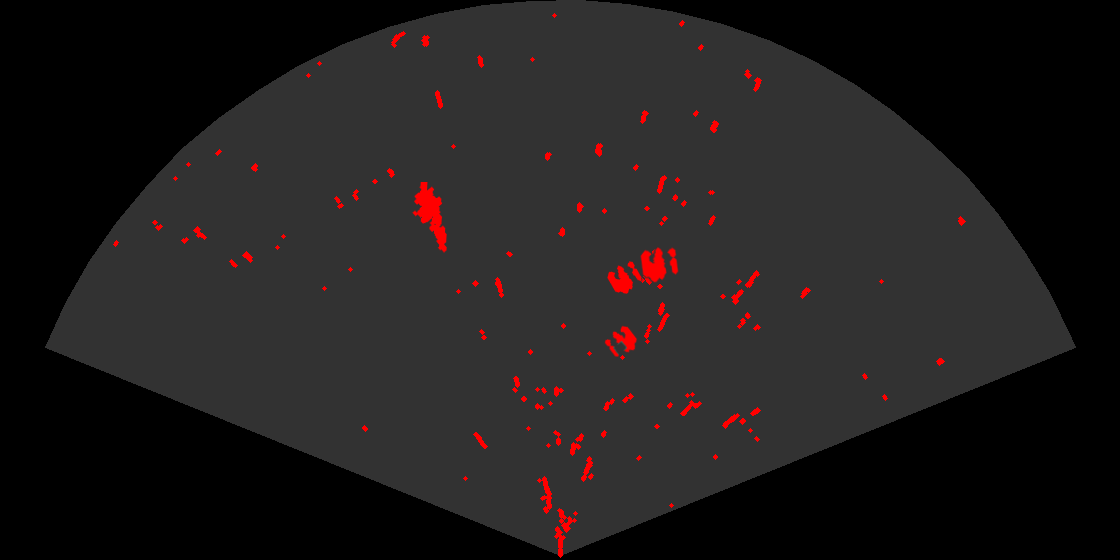ball: (639, 246, 680, 284), (606, 260, 643, 295), (603, 324, 639, 359)
frogman: (411, 182, 448, 253)
